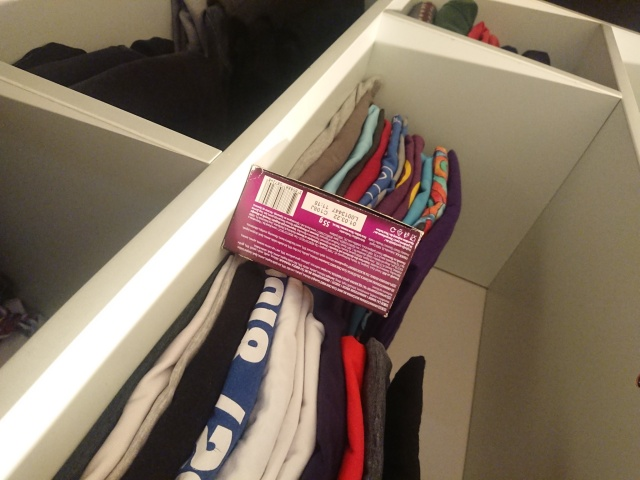Franck Black Currant Tea 60g: (218, 162, 427, 319)
